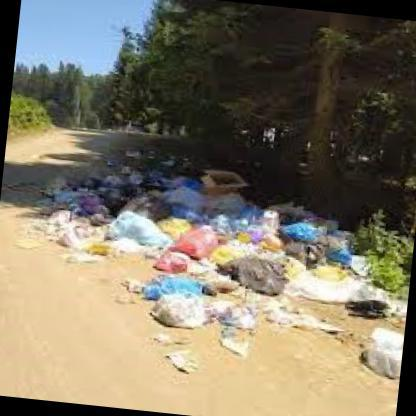Garbage: (81, 188, 358, 336), (62, 178, 201, 260), (196, 191, 306, 292), (103, 159, 202, 268), (138, 270, 254, 338), (217, 209, 268, 356), (289, 270, 407, 328), (241, 222, 350, 272), (339, 324, 402, 385)
